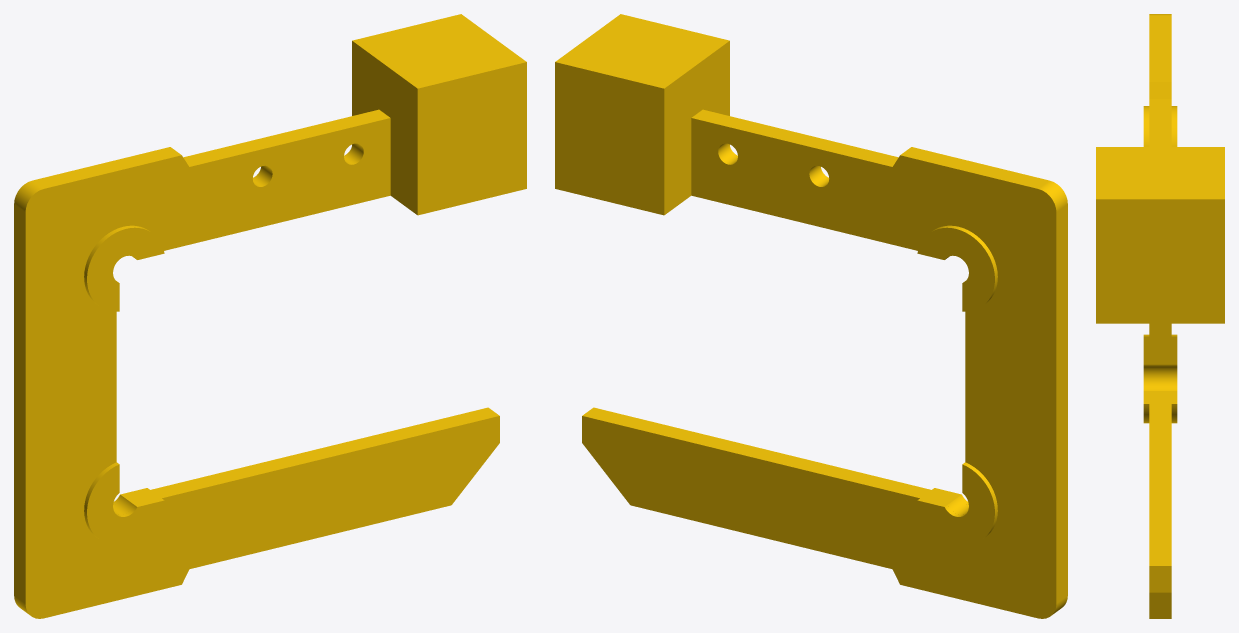
Rendered from BLC-CC-20T.glb.
The picture shows the model from 3 angles, left to right: view 1: azimuth 30°, elevation 25°; view 2: azimuth 150°, elevation 25°; view 3: azimuth 270°, elevation 25°; orthographic projection.
Parts seen in each view (by area): view 1: gancho c-1, Pieza2^GANCHO C 20 TON-1, Pieza1^GANCHO C 20 TON-3, Pieza1^GANCHO C 20 TON-1; view 2: gancho c-1, Pieza2^GANCHO C 20 TON-1, Pieza1^GANCHO C 20 TON-4, Pieza1^GANCHO C 20 TON-2; view 3: Pieza2^GANCHO C 20 TON-1, gancho c-1, Pieza1^GANCHO C 20 TON-4, Pieza1^GANCHO C 20 TON-3, Pieza1^GANCHO C 20 TON-1, Pieza1^GANCHO C 20 TON-2.
Boxes of the visible parts, x1,y1,x2,y2 form: gancho c-1: (14, 109, 499, 618); Pieza2^GANCHO C 20 TON-1: (352, 14, 526, 215); Pieza1^GANCHO C 20 TON-3: (84, 462, 164, 544); Pieza1^GANCHO C 20 TON-1: (84, 225, 164, 311); gancho c-1: (582, 109, 1067, 618); Pieza2^GANCHO C 20 TON-1: (555, 14, 729, 215); Pieza1^GANCHO C 20 TON-4: (917, 462, 997, 544); Pieza1^GANCHO C 20 TON-2: (917, 225, 997, 311); Pieza2^GANCHO C 20 TON-1: (1096, 147, 1224, 323); gancho c-1: (1149, 14, 1171, 618); Pieza1^GANCHO C 20 TON-4: (1171, 334, 1177, 423); Pieza1^GANCHO C 20 TON-3: (1143, 334, 1149, 423); Pieza1^GANCHO C 20 TON-1: (1143, 106, 1149, 146); Pieza1^GANCHO C 20 TON-2: (1171, 106, 1177, 146).
Bounding box in the file's own units: 1.82 × 1.71 × 0.4362.
